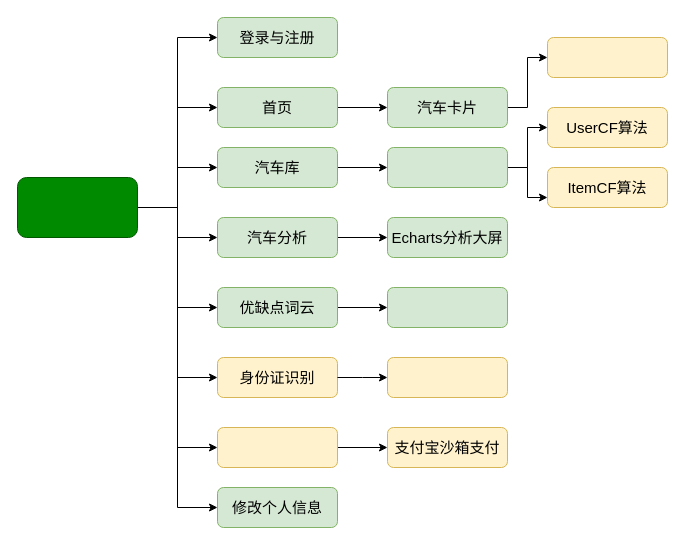
The diagram is 685 pixels wide and 545 high, and some of its shapes have lost their labels. Each missing label, with the centre of its shape:
"AI图像识别" goes at point (447, 377).
"充值" goes at point (277, 447).
"协同过滤 推荐算法" goes at point (447, 167).
"懂车分" goes at point (607, 57).
"懂车帝大数据 功能模块" goes at point (77, 207).
"词云X2" goes at point (447, 307).
